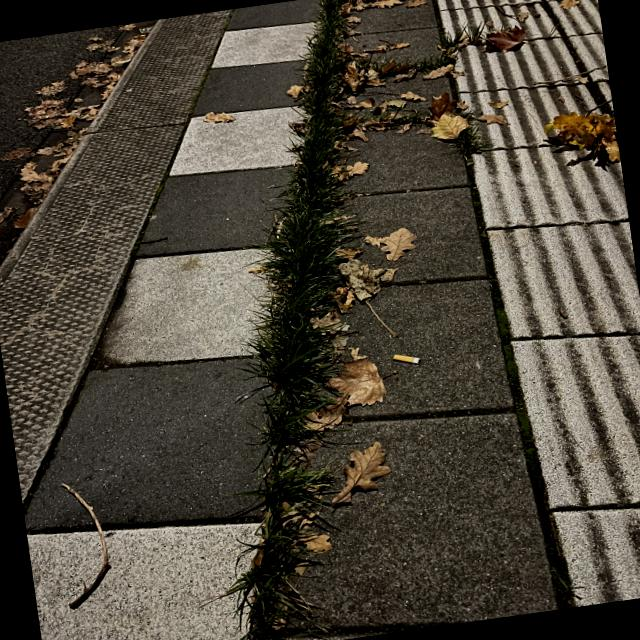leaves: (16, 30, 161, 201), (550, 106, 621, 171), (480, 23, 537, 56)
pavement: (311, 0, 639, 639), (0, 7, 317, 640)
weed: (246, 0, 355, 617)
